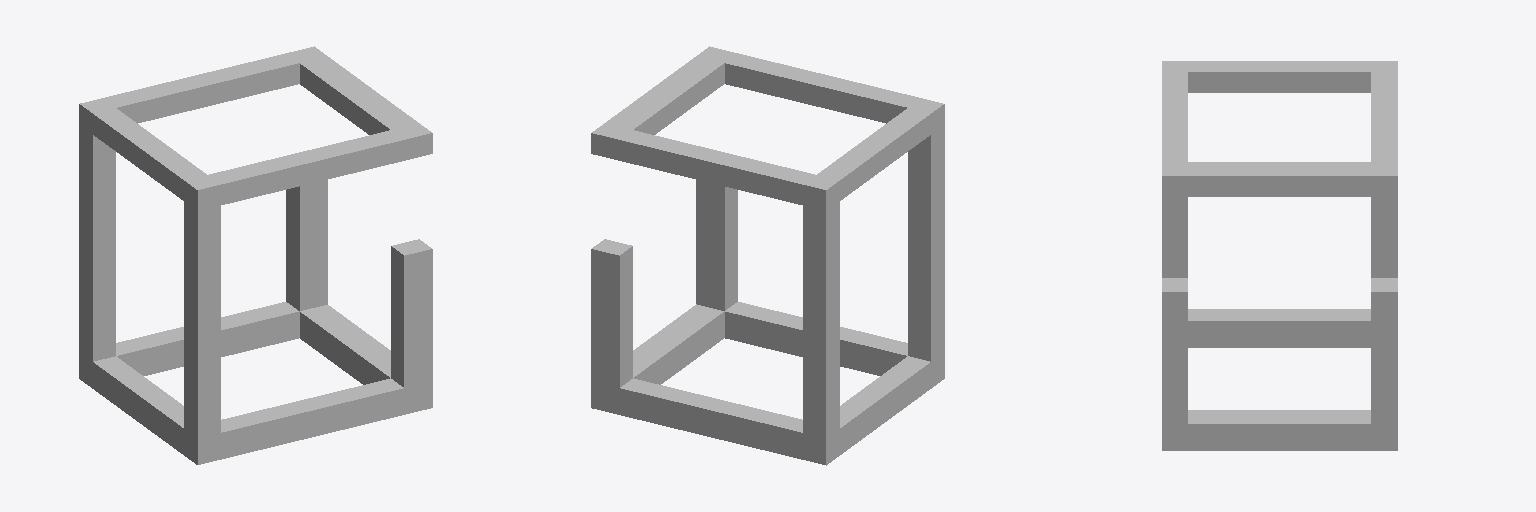
The model's file is fin.obj.
3 views of the same model, side by side, from view 1: azimuth 30°, elevation 25°; view 2: azimuth 150°, elevation 25°; view 3: azimuth 270°, elevation 25° (orthographic).
Visible parts, largest first — view 1: pCube1; view 2: pCube1; view 3: pCube1.
Boxes of the visible parts, x1,y1,x2,y2 form: pCube1: [79, 46, 432, 464]; pCube1: [591, 46, 944, 465]; pCube1: [1162, 61, 1397, 450].
Bounding box in the file's own units: 4.45 × 4.98 × 3.88.